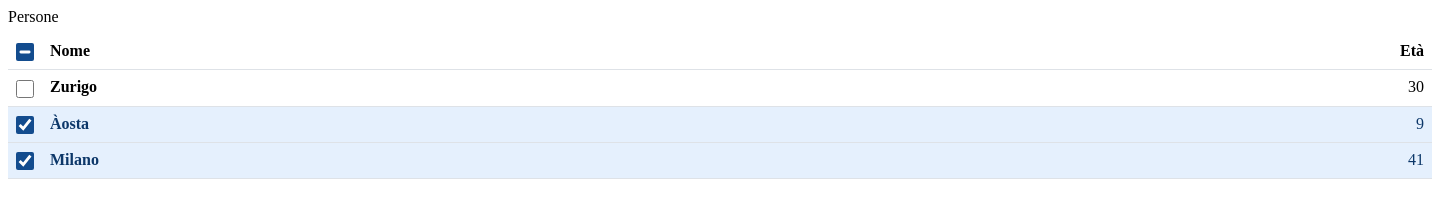
under an exclude rule › claims every row only when completing the page makes it true
Click the checkbox named "Select all rows": {"x": 25, "y": 52} [16,43,34,61]
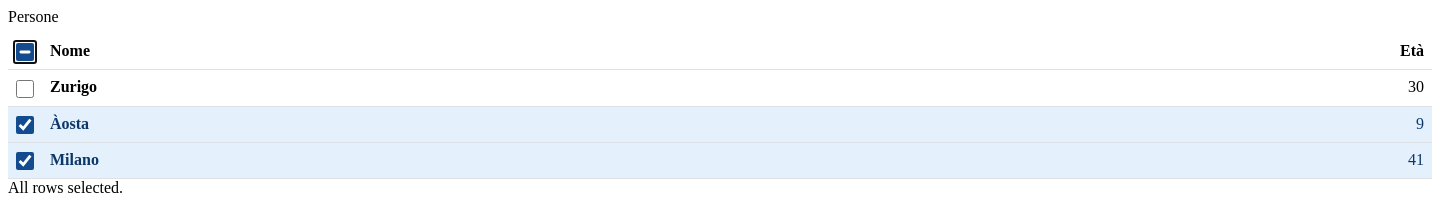
Result: the message "All rows selected." is shown at [8,179,123,196]
